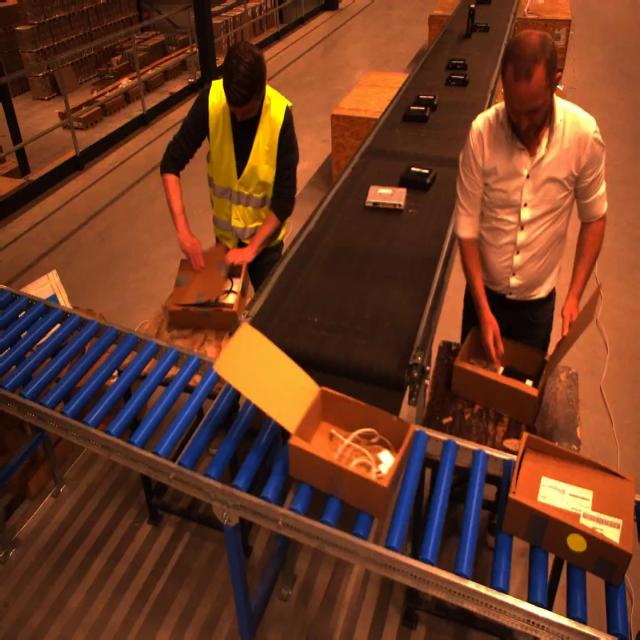box: (220, 327, 406, 519), (453, 286, 601, 431), (503, 430, 636, 581), (166, 243, 249, 330)
product: (360, 184, 412, 228), (398, 165, 436, 190), (402, 105, 431, 122), (411, 94, 438, 111), (444, 73, 470, 87), (445, 58, 468, 70), (472, 23, 489, 33)
